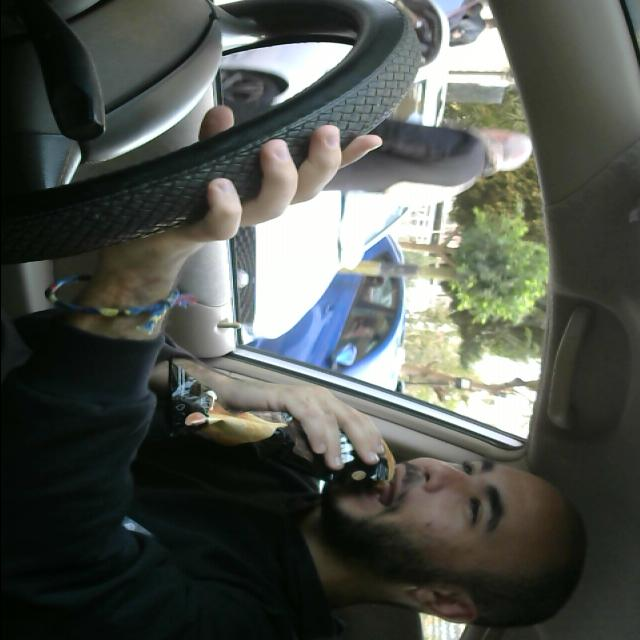eating: (158, 354, 428, 504)
